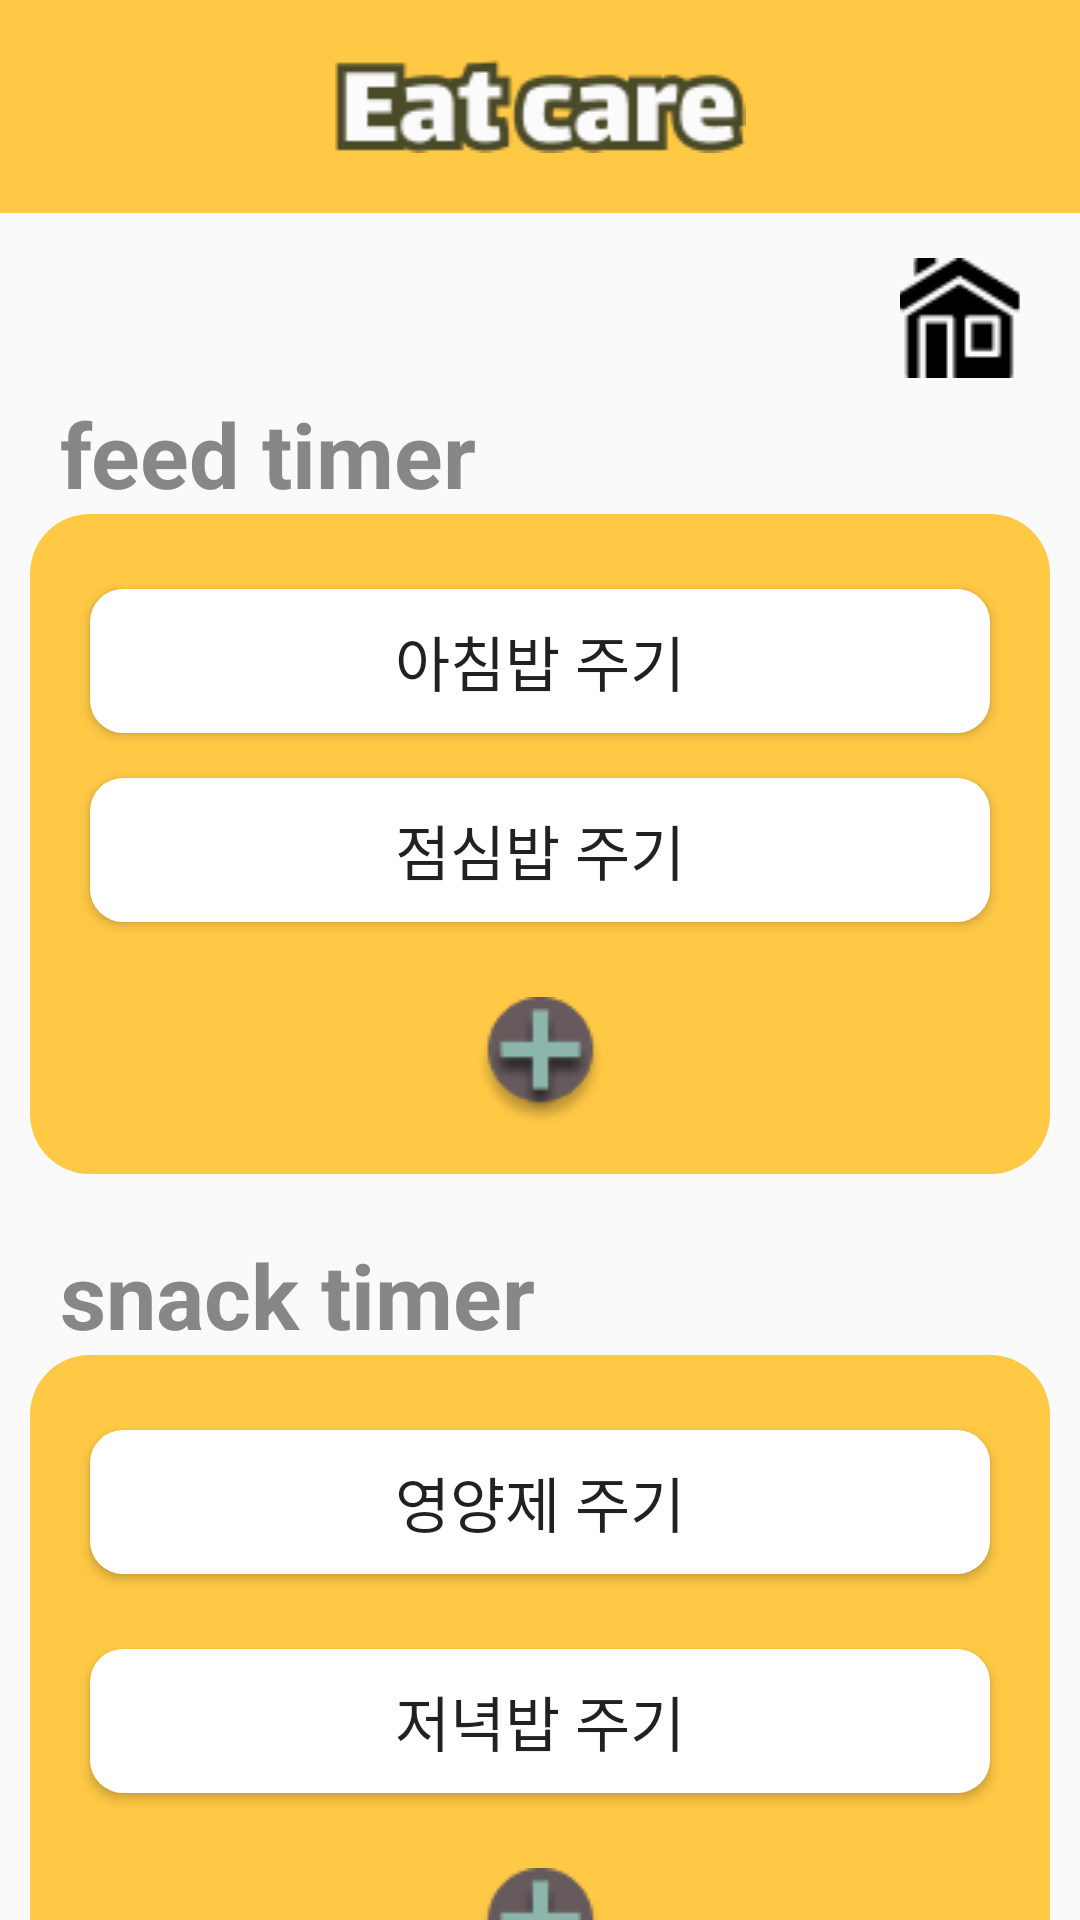

Icon bounding boxes for this 1080px×1920px phone screenshot, format (x1, y1, x2, y2):
home: (900, 258, 1020, 378)
